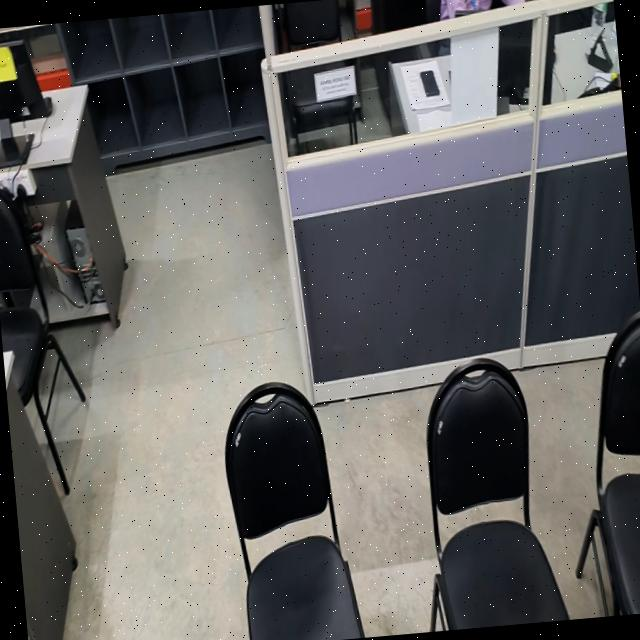Chair: (408, 342, 560, 632), (214, 356, 366, 640), (576, 290, 640, 616), (0, 171, 39, 381), (277, 0, 347, 54)
Cpu: (58, 197, 104, 311)
Monitor: (0, 38, 52, 165)
